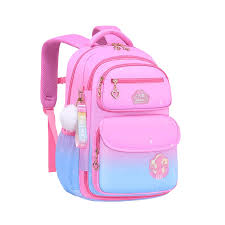bag: (36, 18, 185, 204)
